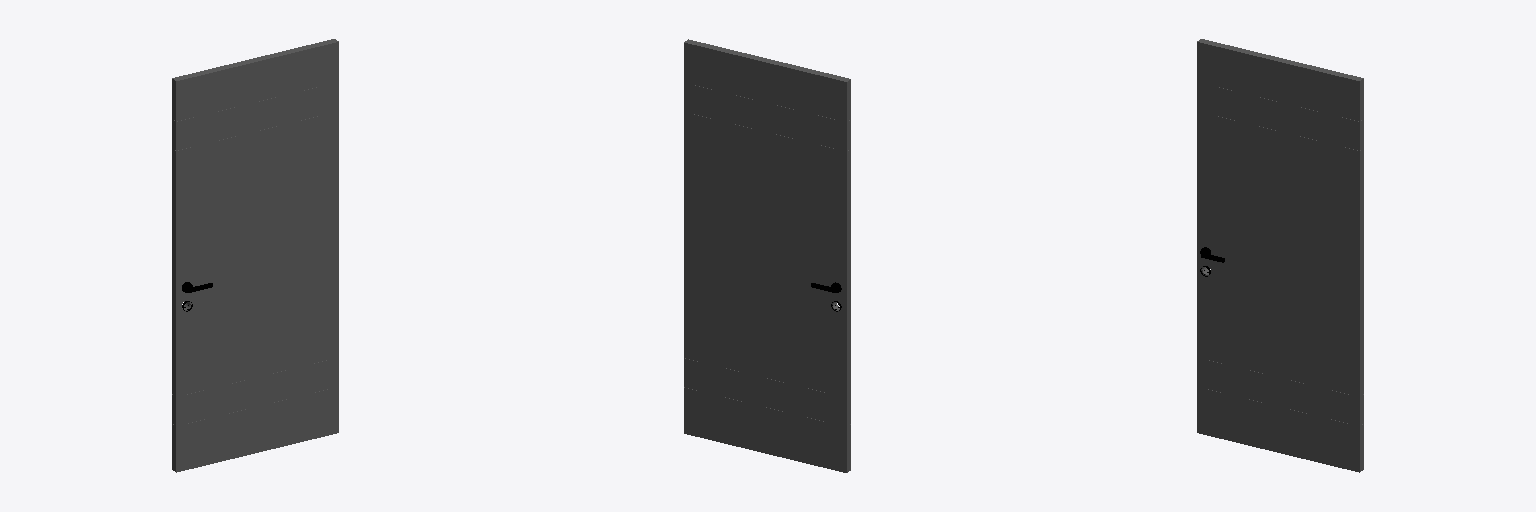
File: Door.obj
The picture shows the model from 3 angles: view 1: azimuth 30°, elevation 25°; view 2: azimuth 150°, elevation 25°; view 3: azimuth 330°, elevation 25°; orthographic projection.
Parts seen in each view (by area): view 1: Box01_Untitled.009; view 2: Box01_Untitled.009; view 3: Box01_Untitled.009.
Part boxes in pixels (bbox=[...]): Box01_Untitled.009: bbox=[172, 39, 338, 472]; Box01_Untitled.009: bbox=[684, 39, 850, 472]; Box01_Untitled.009: bbox=[1197, 39, 1363, 472].
Size of the model in its own units: 9.12 by 20.93 by 1.37.